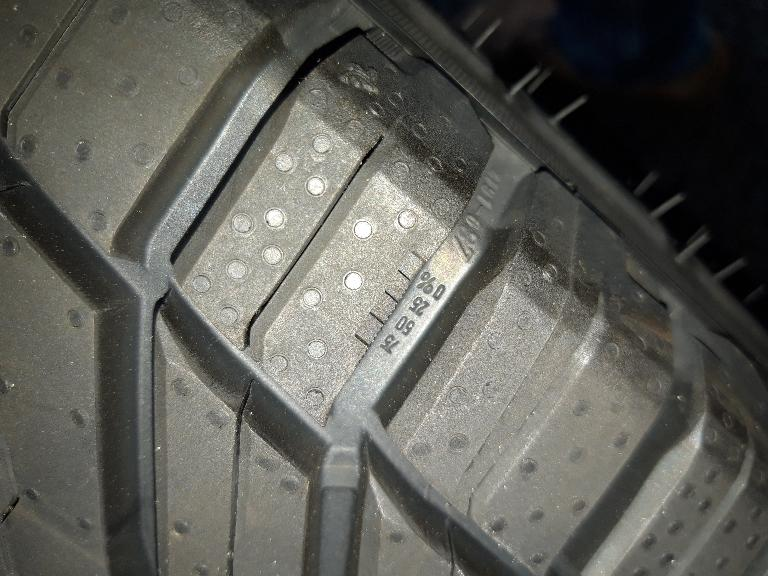temoin:100: (351, 248, 431, 370)
